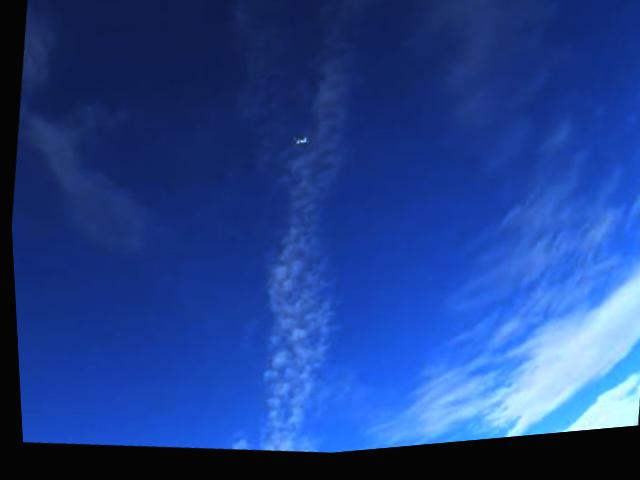uav: (281, 132, 312, 161)
